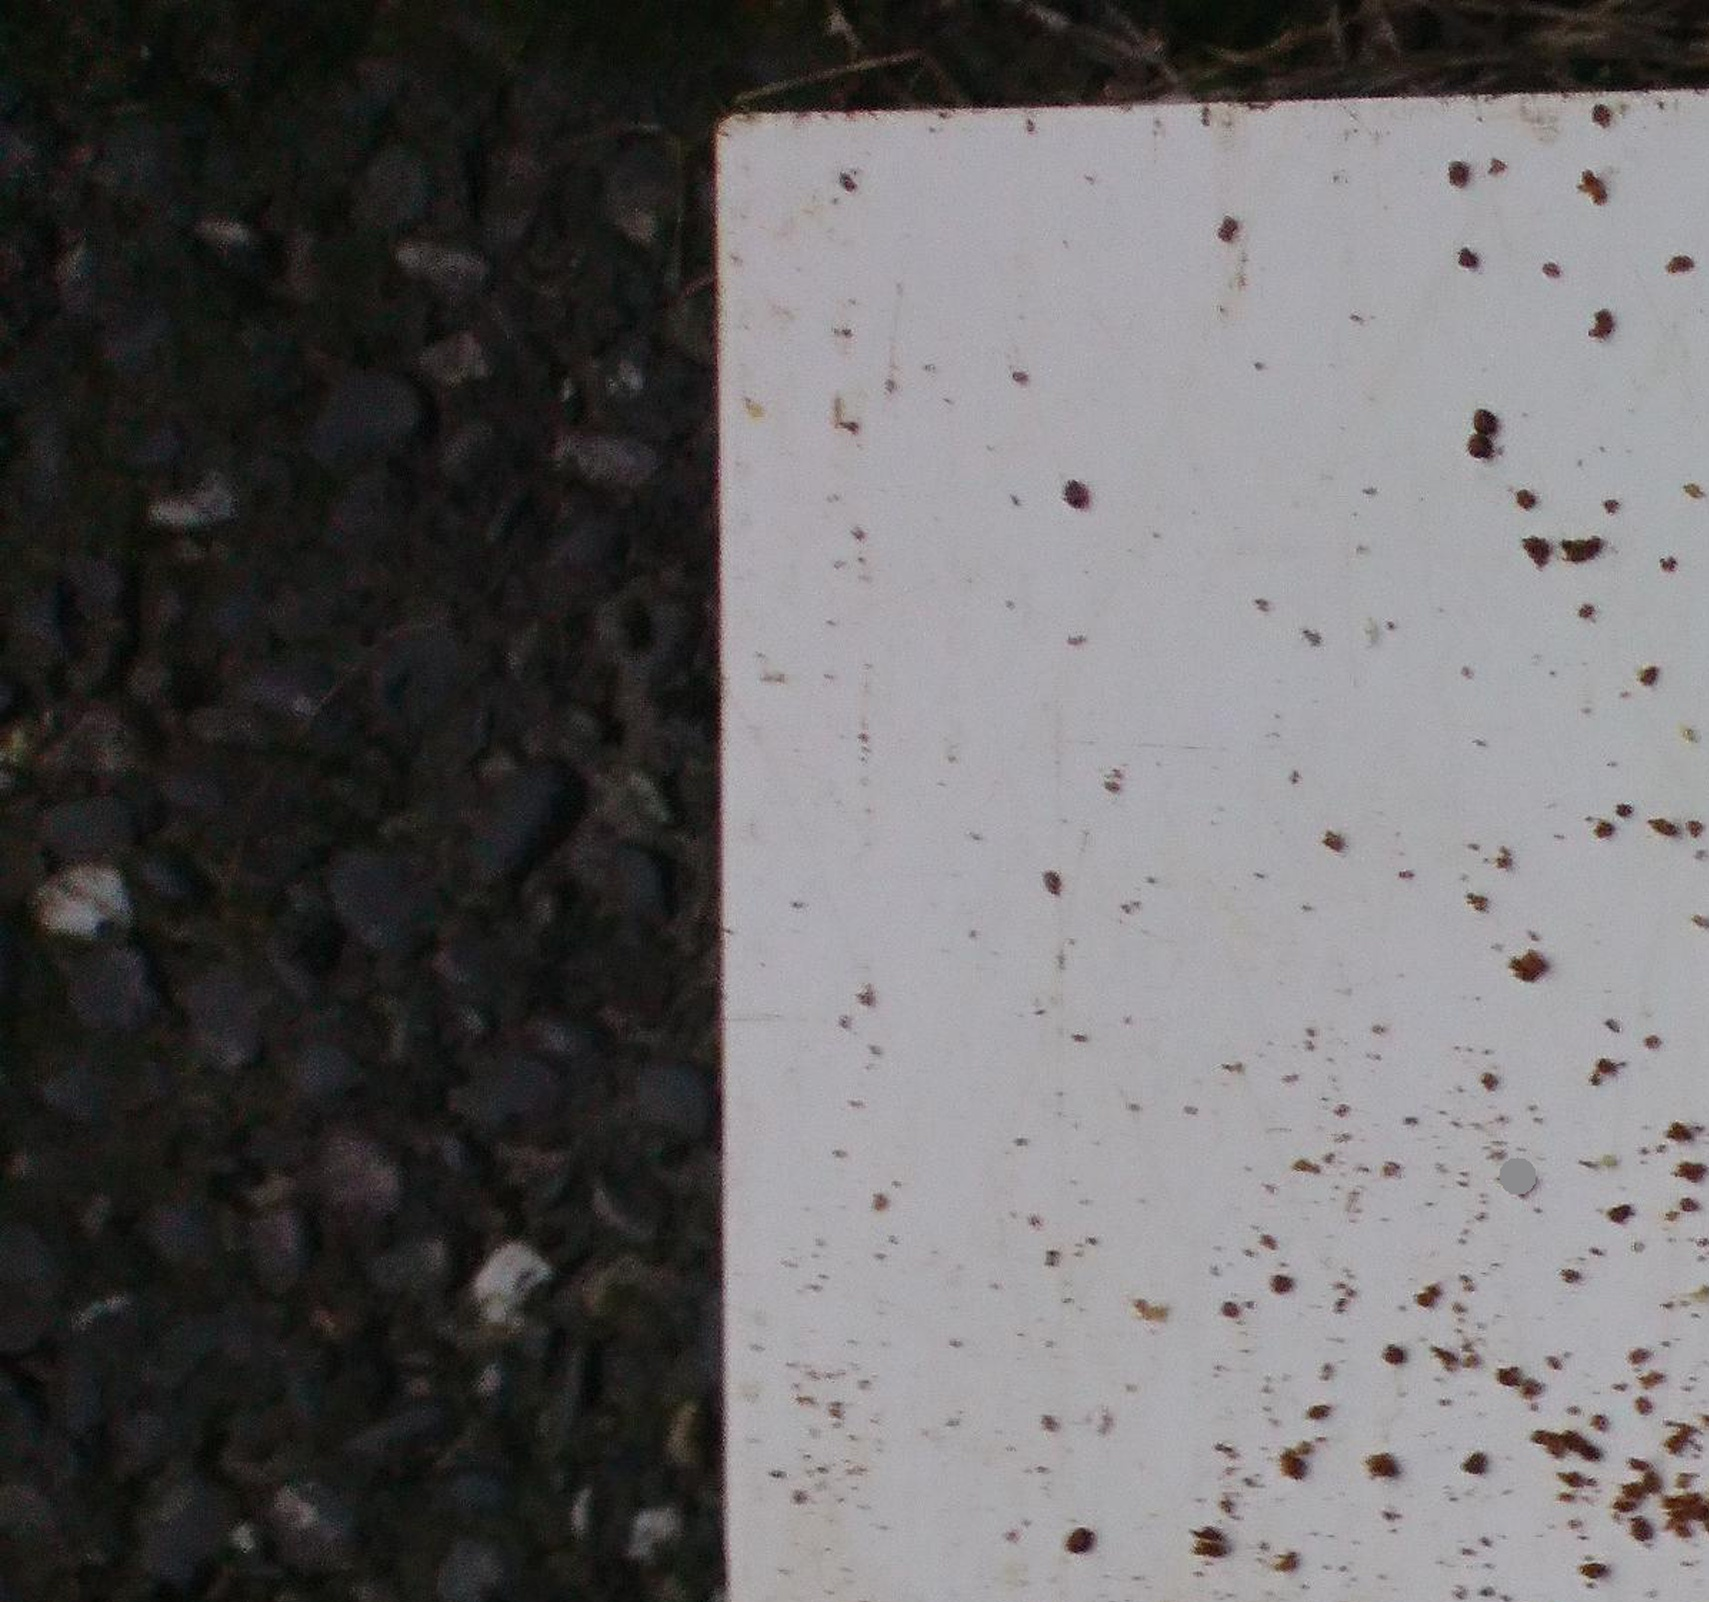Varroa: (1442, 160, 1476, 194), (1464, 431, 1494, 461), (1468, 407, 1497, 438), (1071, 1530, 1096, 1555)
